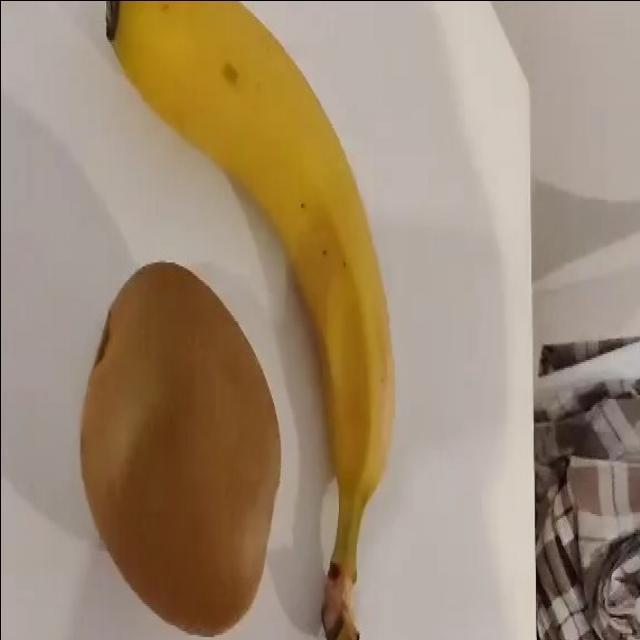Banana: (107, 0, 397, 619)
